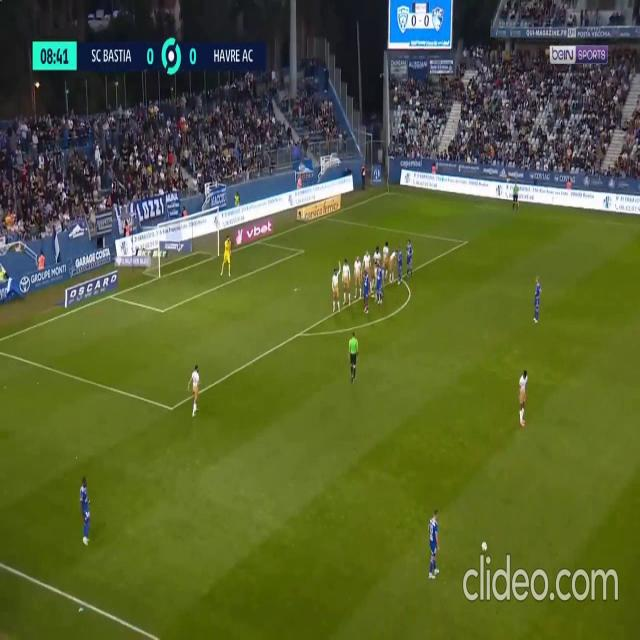goalkeeper: (220, 236, 233, 278)
player: (427, 507, 441, 577), (79, 475, 92, 544), (187, 364, 199, 418), (518, 368, 528, 426), (371, 260, 383, 305), (386, 245, 397, 287), (404, 237, 414, 279), (533, 278, 542, 323), (354, 253, 363, 296), (343, 257, 351, 301), (332, 268, 340, 310)
referee: (349, 331, 359, 384), (512, 182, 520, 211)
